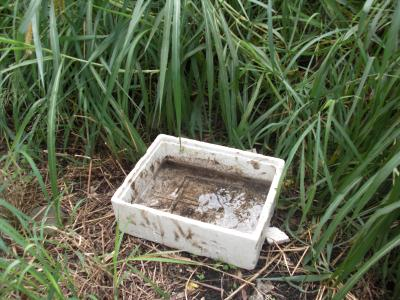styrofoam: (106, 131, 289, 272)
